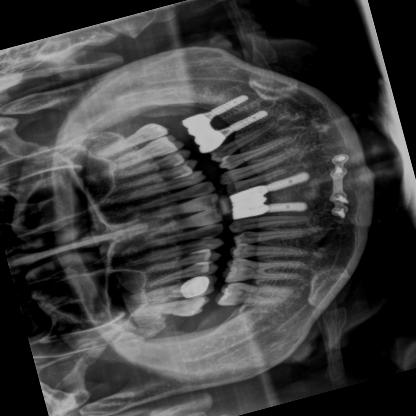ITI: (219, 103, 276, 136), (263, 164, 316, 195), (206, 89, 253, 118), (264, 192, 311, 219)
